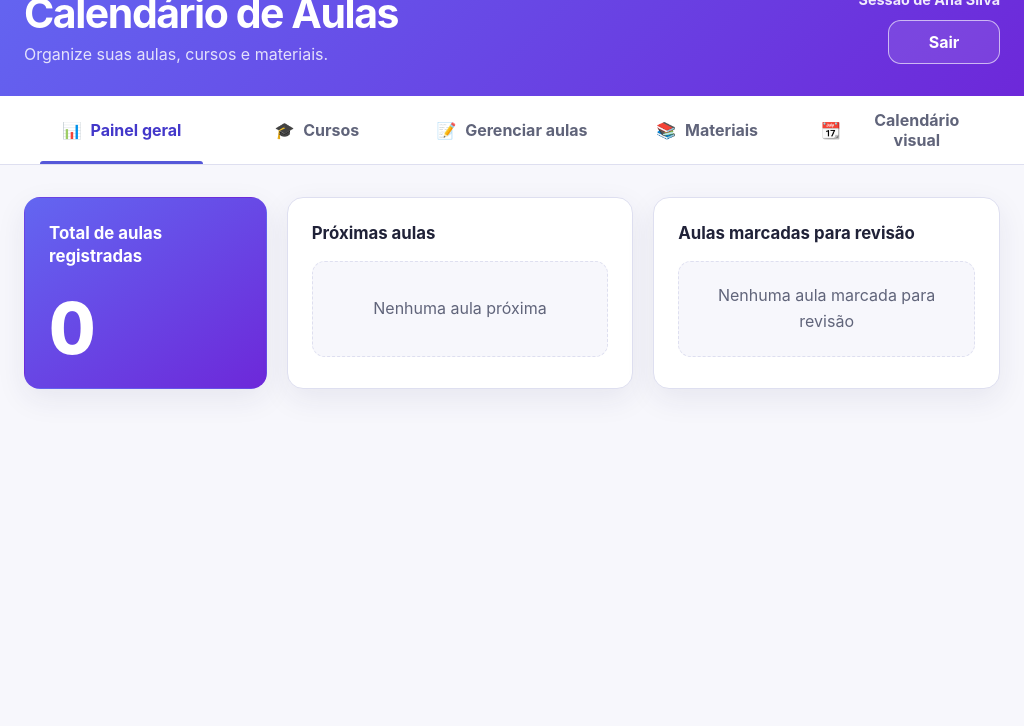
Scenario: catálogo de cursos dentro da área autenticada › o formulário aberto pelo menu grava pelo serviço fornecido à área autenticada
Click the button "🎓 Cursos". click: (317, 130)
box: [219, 96, 414, 164]
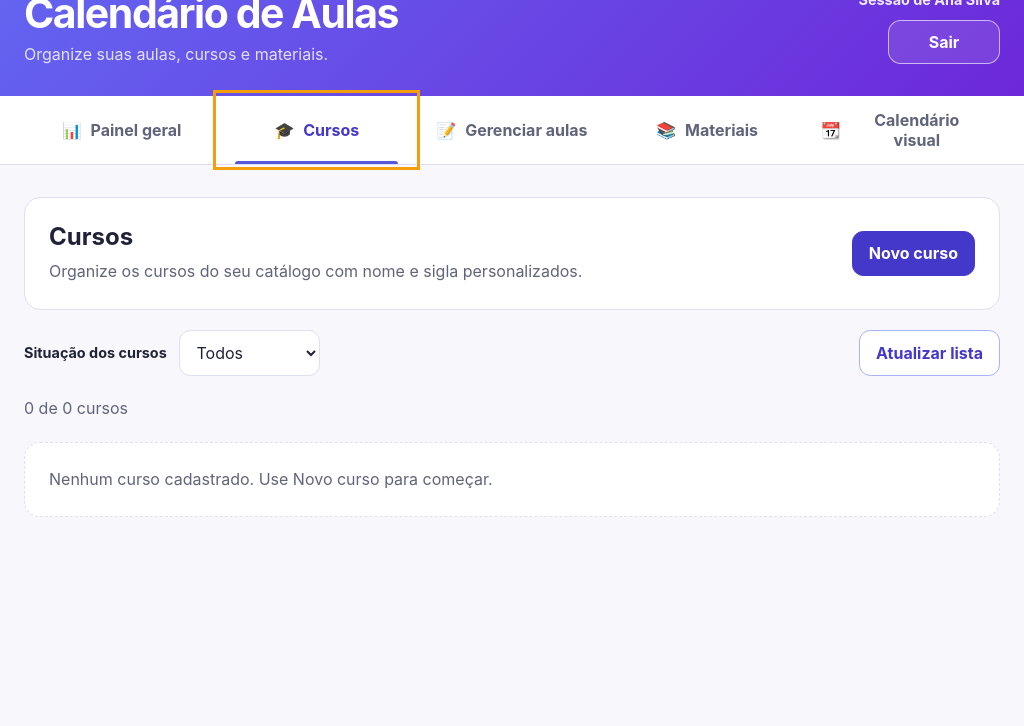
Expected: the text "0 de 0 cursos" is shown, [24, 398, 128, 418]
Click the button "Novo curso". click: (913, 253)
box: [852, 230, 975, 276]
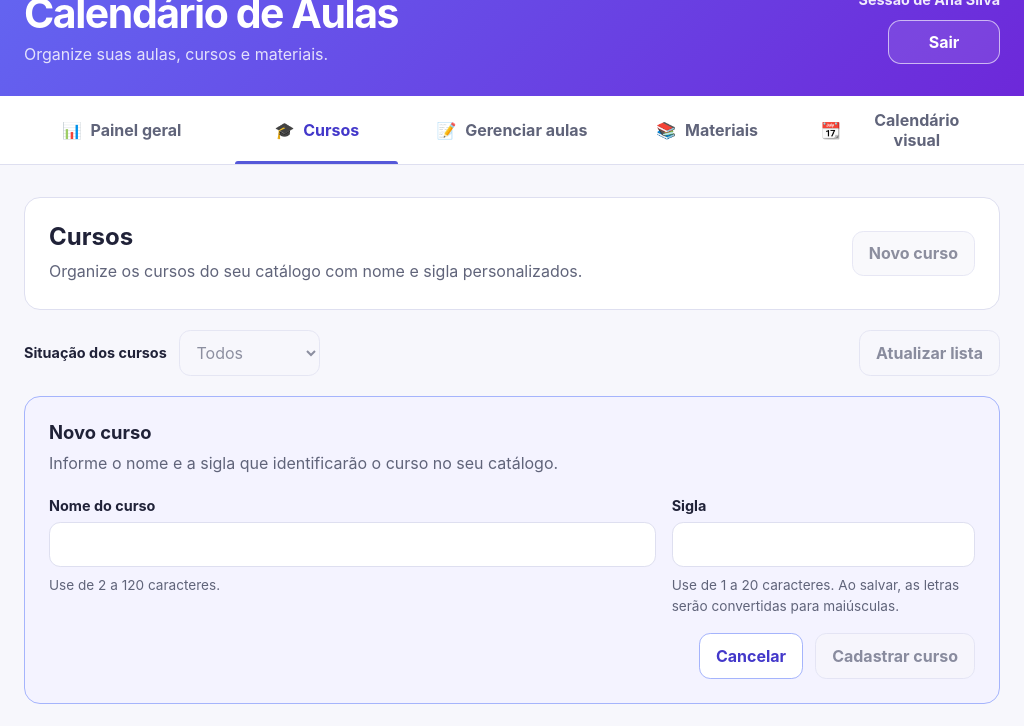
Type "Ciência de Dados" into the field labelled "Nome do curso". click: (352, 544)
box: [49, 522, 656, 567]
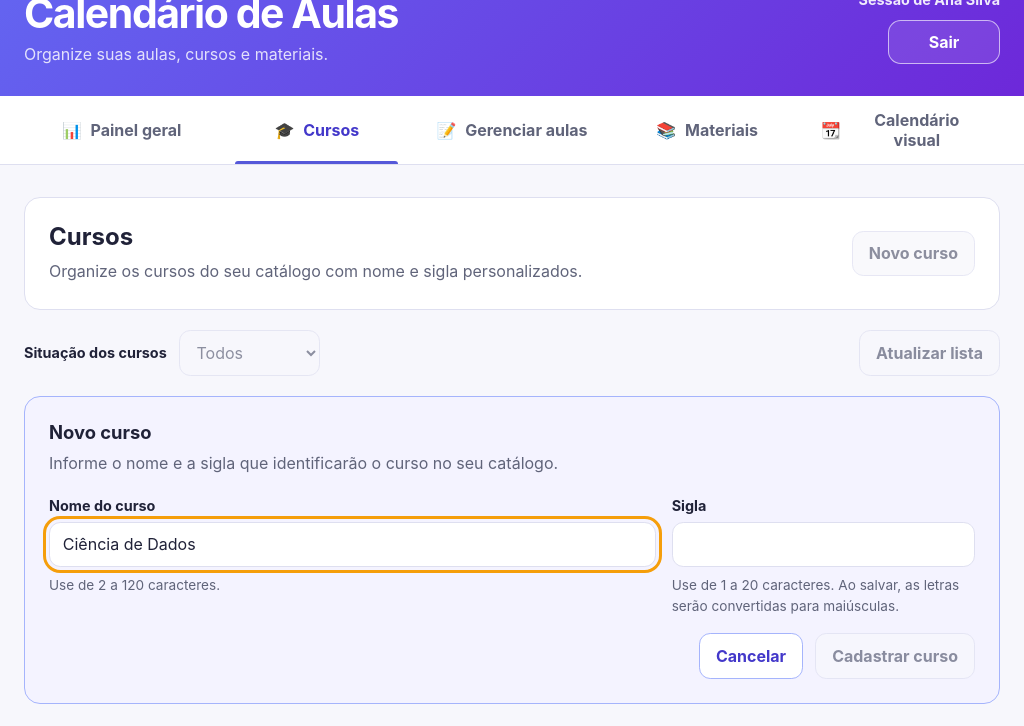
Type "cd" into the field labelled "Sigla". click: (823, 544)
box: [672, 522, 975, 567]
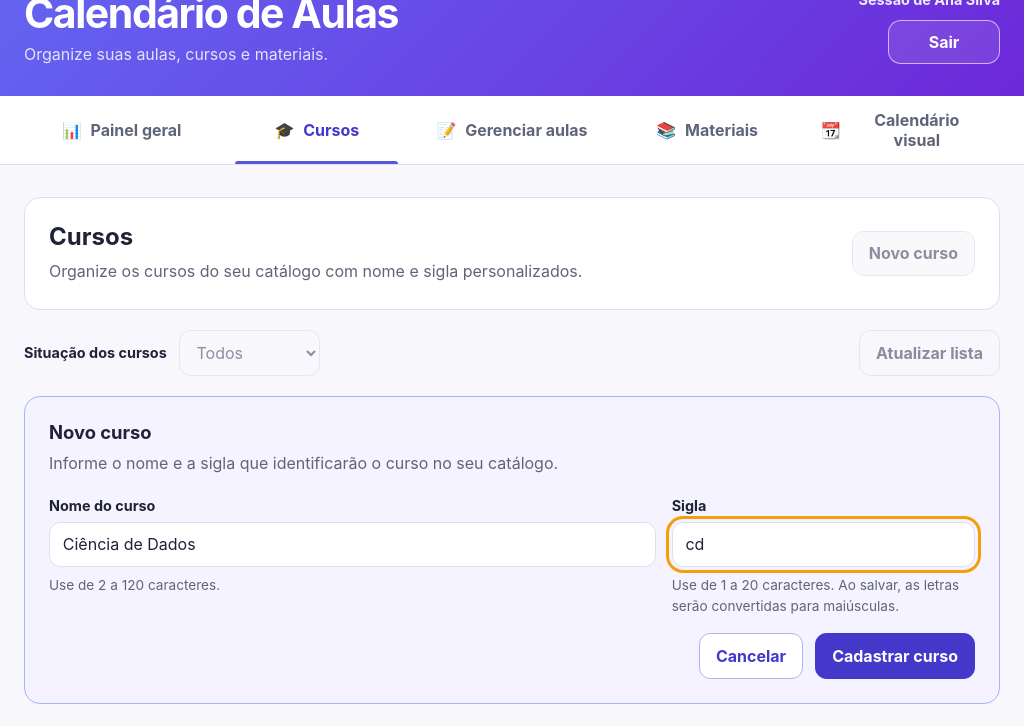
Click the button "Cadastrar curso". click: (895, 656)
box: [815, 633, 975, 679]
(page scrolled)
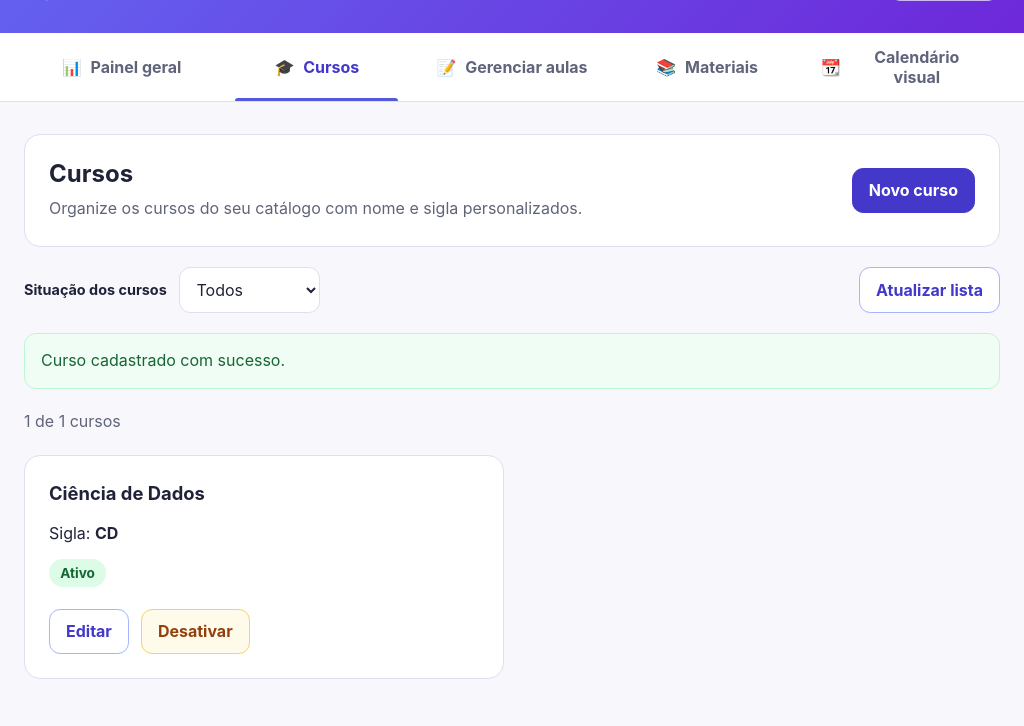
Expected: the element "Ciência de Dados" is shown, [24, 455, 504, 679]
